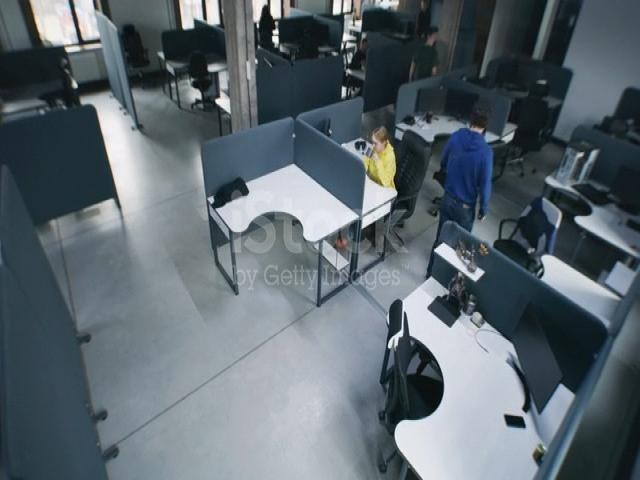empty chair: (375, 286, 432, 466), (22, 54, 102, 126), (505, 178, 561, 278), (119, 3, 148, 101), (519, 65, 550, 156), (179, 37, 215, 115), (432, 138, 479, 190), (593, 107, 640, 142)
occupiedchair: (356, 119, 431, 246), (343, 24, 377, 100)
